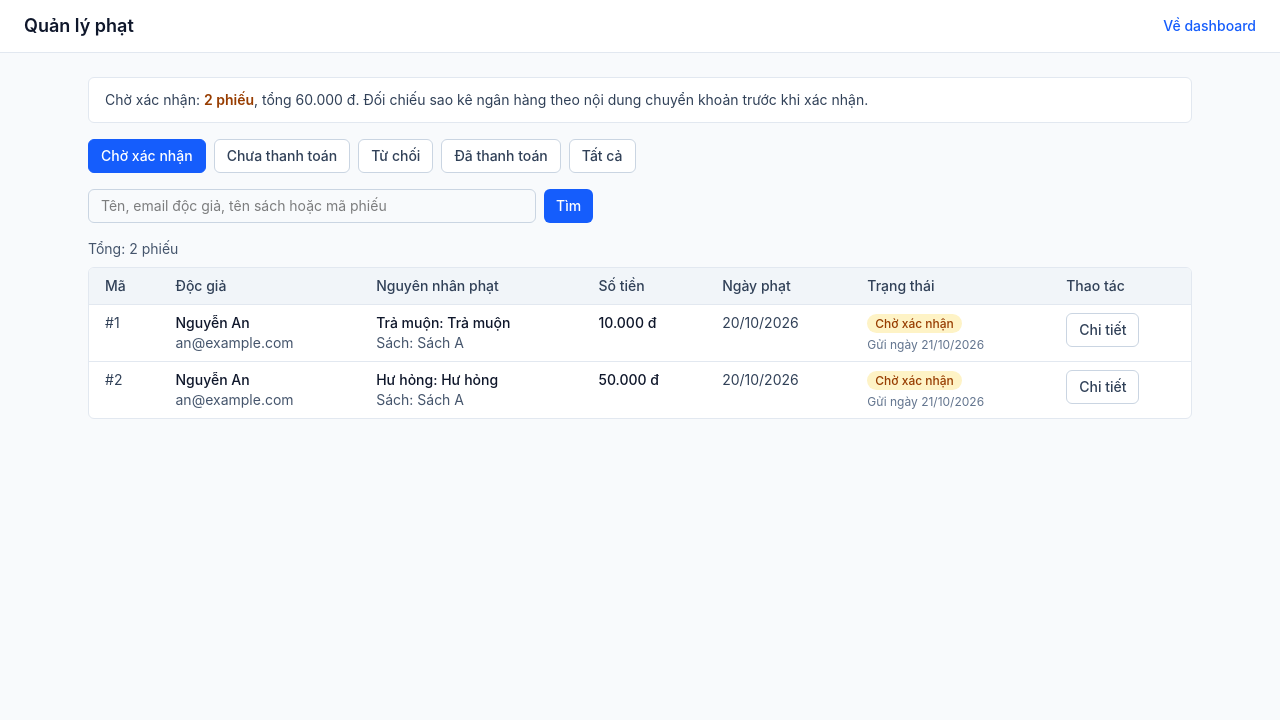
FineTicketsPage (2.5.3) › edge 1: phiếu đã được người khác xử lý → báo lỗi và tải lại
Click the button "Chi tiết" in the row of "10.000 đ": (1103, 330) [1066,313,1139,347]
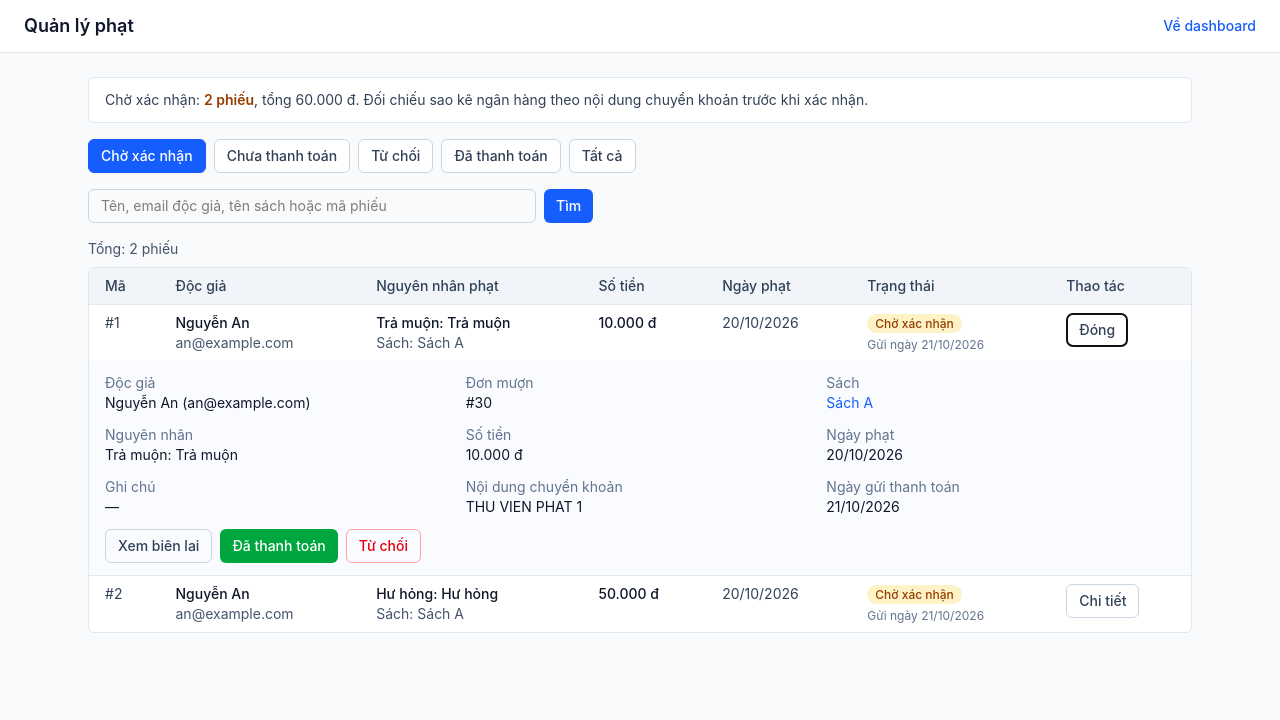
Click the button with aria-label "Đã thanh toán phiếu 1": (279, 546) [220,529,338,563]
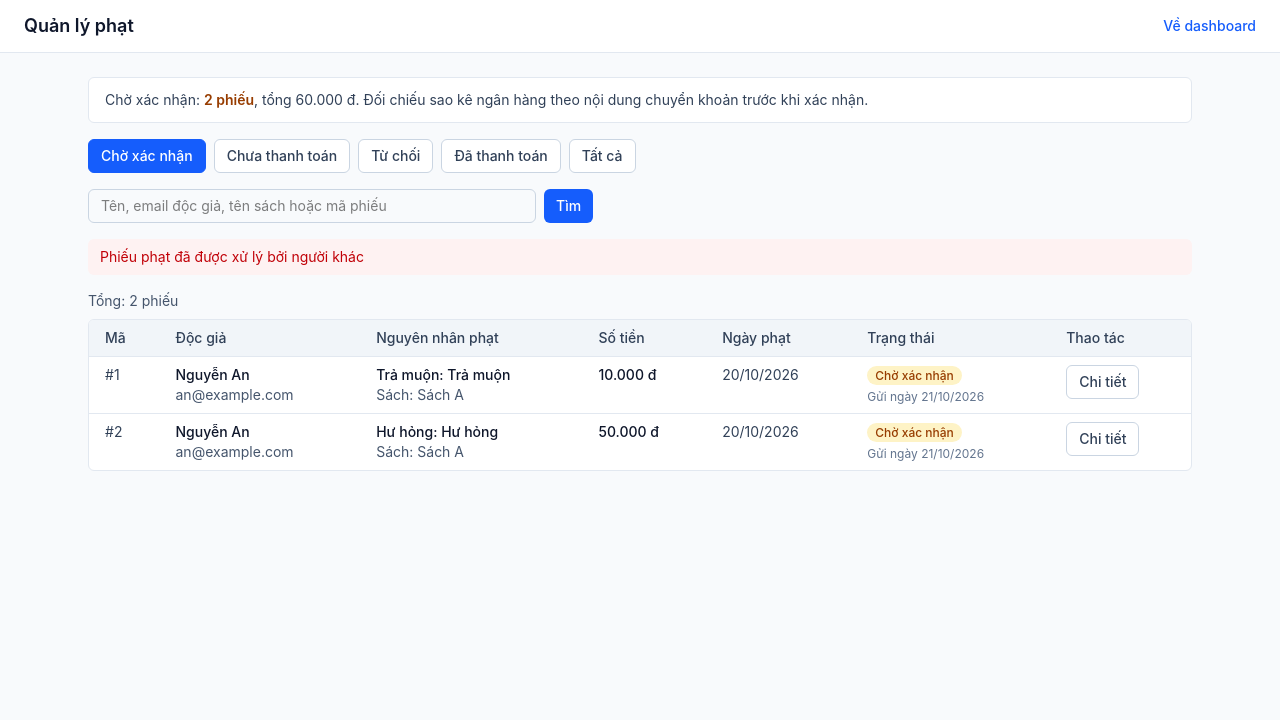
expect the message shows "đã được xử lý bởi người khác": met, box [100,248,364,265]
